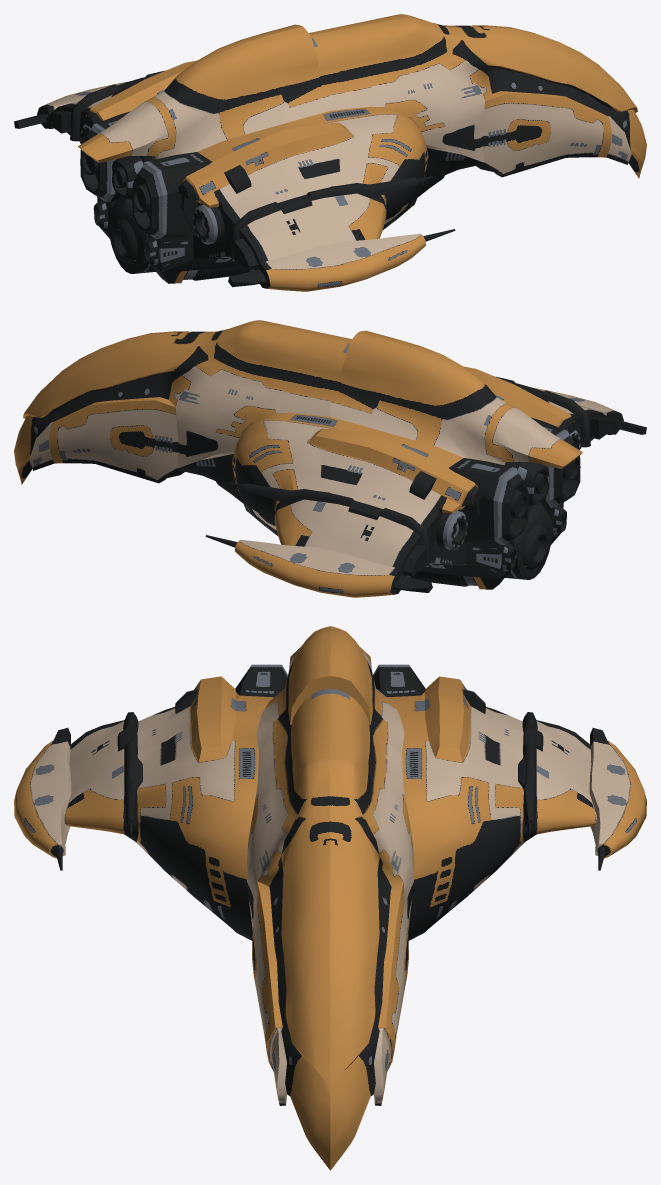
File: prophecy.glb
3 views of the same model, one above another, from view 1: azimuth 30°, elevation 25°; view 2: azimuth 150°, elevation 25°; view 3: azimuth 270°, elevation 25° (orthographic). The views are drawn at different scales.
Visible parts, largest first — view 1: Prophecy; view 2: Prophecy; view 3: Prophecy.
Part boxes in pixels (bbox=[...]): Prophecy: bbox=[14, 14, 646, 291]; Prophecy: bbox=[14, 320, 646, 597]; Prophecy: bbox=[14, 626, 646, 1170].
Bounding box in the file's own units: 328 × 130 × 256.
1 material, 1 textured.
